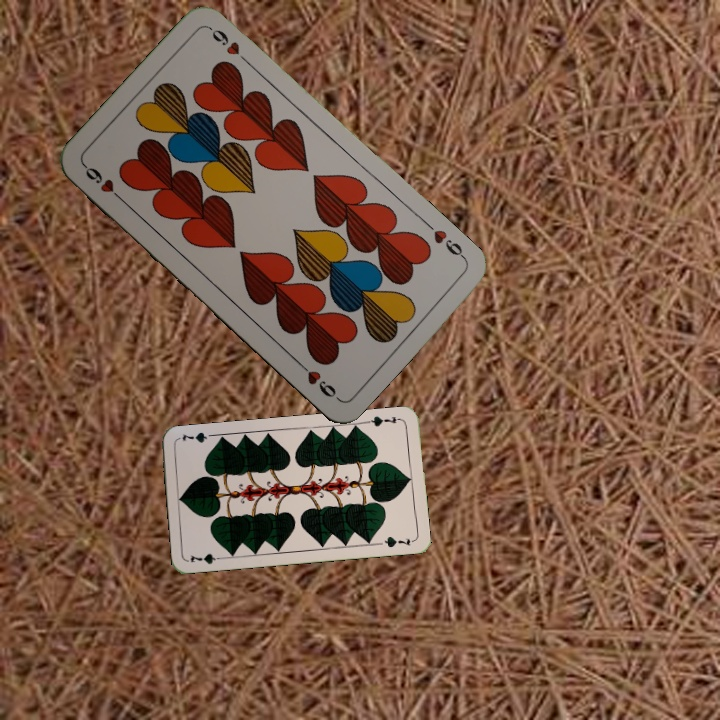G7: (186, 549, 227, 566), (363, 412, 404, 429)
H9: (80, 160, 128, 205), (429, 225, 469, 263)
